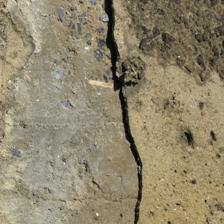Crack: (49, 1, 98, 222)
